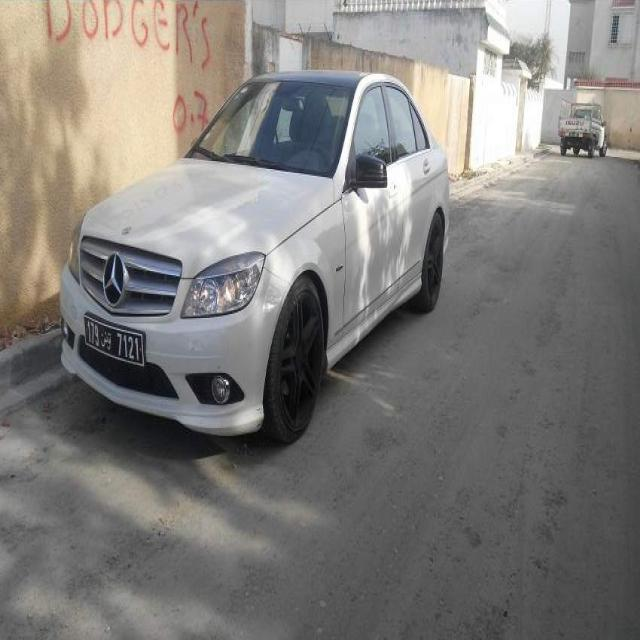licence plate: (85, 317, 142, 364)
